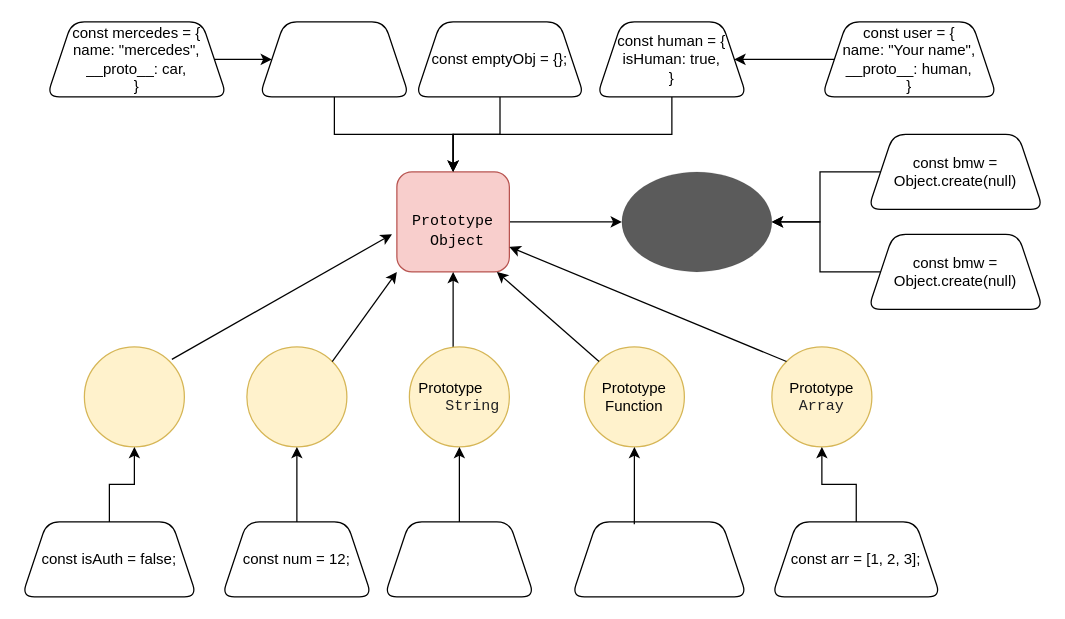
The diagram is 1065 pixels wide and 619 high, and some of its shapes have lost their labels. The shapes that lost their labels are listed below. From the top down, each one's box as (x1, y1, x2, y2) in pixels, then its label:
(258, 21, 409, 97): const car = { hasEngine: true, };
(621, 171, 771, 271): null
(83, 346, 184, 447): Prototype Boolean
(246, 346, 347, 447): Prototype Number
(383, 521, 534, 597): const str = ""
(571, 521, 747, 597): function fn() { console.log("hello, world!"); }
